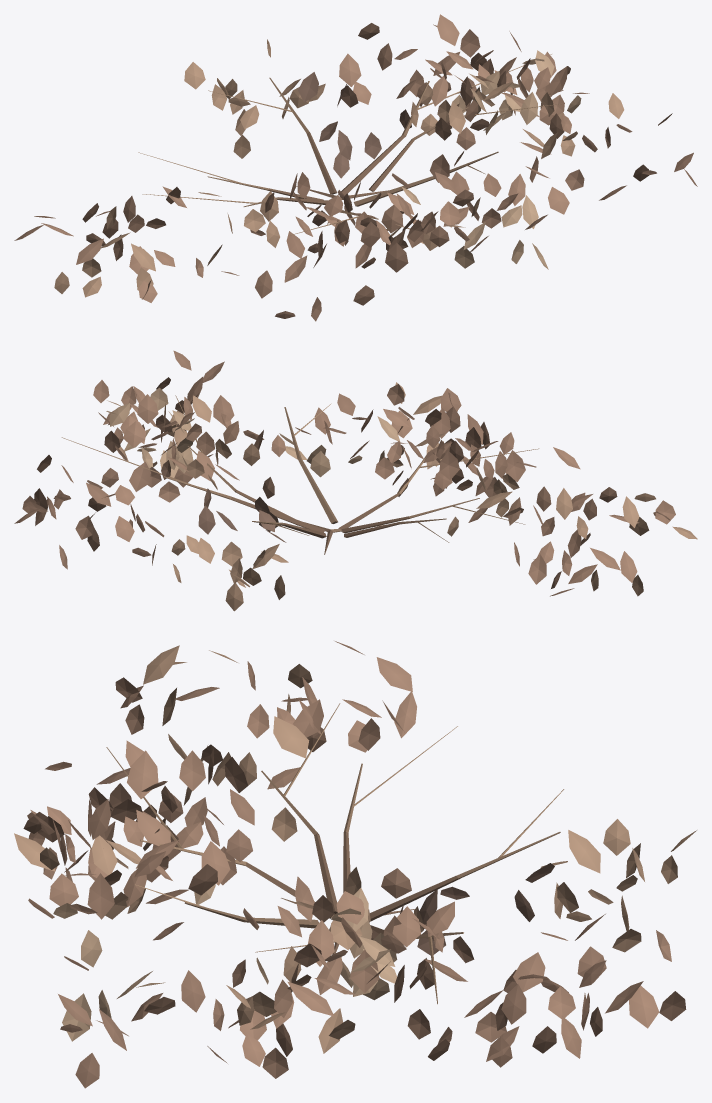
File: bush_3d_04_copper.glb
The picture shows the model from 3 angles, top to bottom: view 1: azimuth 30°, elevation 25°; view 2: azimuth 150°, elevation 25°; view 3: azimuth 270°, elevation 25°; orthographic projection. The views are drawn at different scales.
Visible parts, largest first — view 1: bush_3d_04_copper_foliage, bush_3d_04_copper_wood; view 2: bush_3d_04_copper_foliage, bush_3d_04_copper_wood; view 3: bush_3d_04_copper_foliage, bush_3d_04_copper_wood.
Part boxes in pixels (x1,y1,x2,y2): bush_3d_04_copper_foliage: (14,14,697,321); bush_3d_04_copper_wood: (138,54,561,235); bush_3d_04_copper_foliage: (14,350,697,611); bush_3d_04_copper_wood: (61,395,539,554); bush_3d_04_copper_foliage: (14,641,696,1088); bush_3d_04_copper_wood: (106,703,564,1004).
Size of the model in its own units: 3.8 by 0.75 by 2.6.
